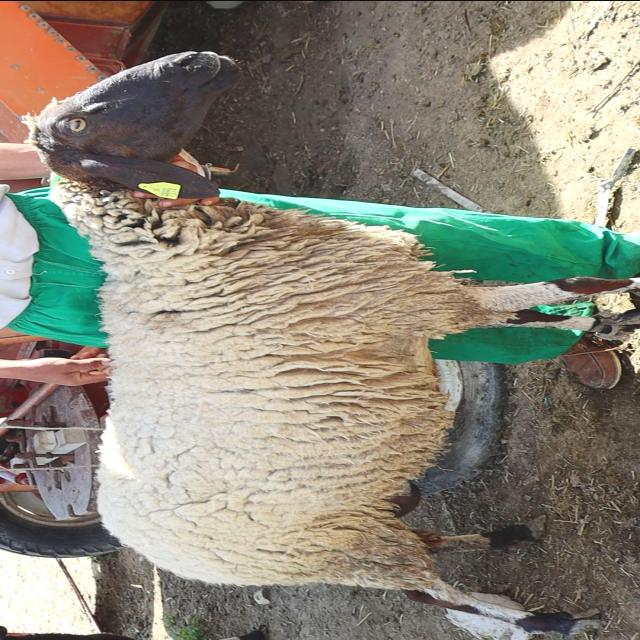Score_3: (25, 51, 639, 640)
